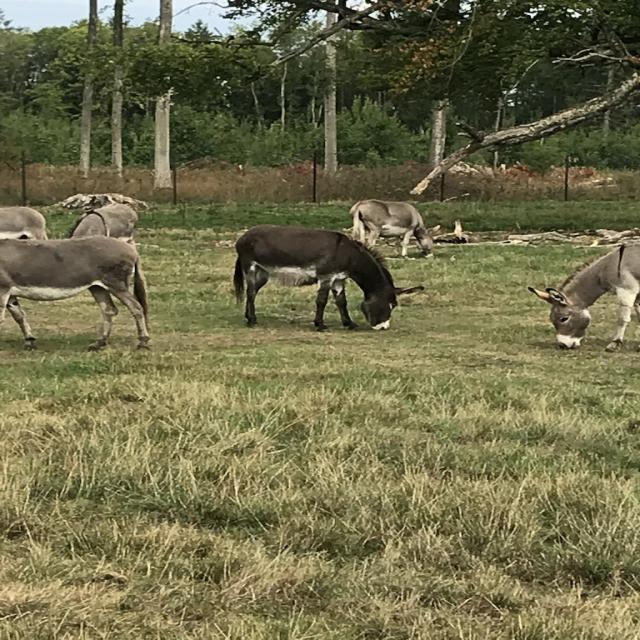Donkey: (230, 222, 425, 332), (0, 233, 152, 351), (524, 239, 638, 353), (346, 197, 441, 258), (60, 201, 138, 246), (0, 204, 48, 239)
